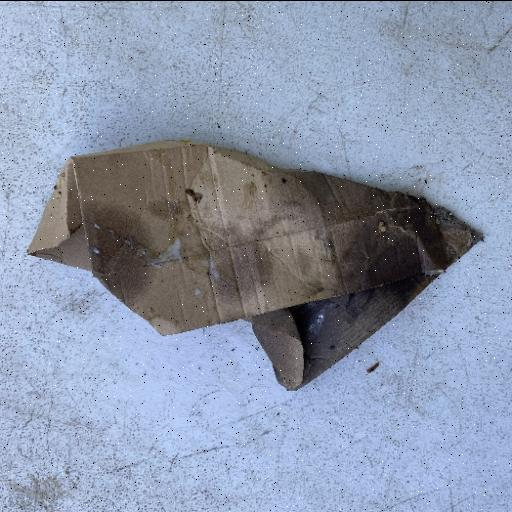Cardboard: (26, 137, 484, 392)
